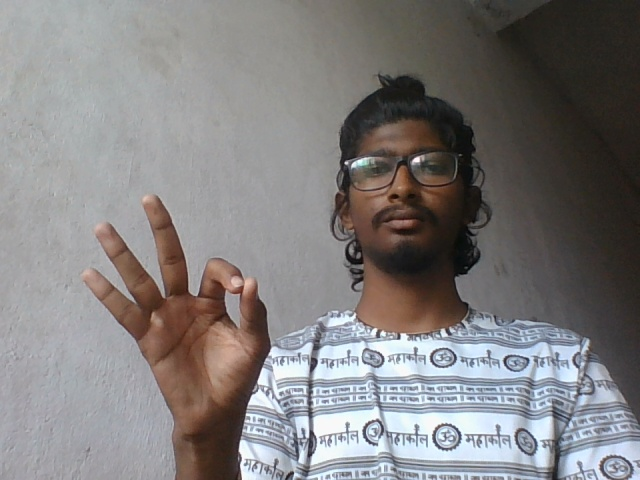Washroom: (75, 188, 278, 439)
